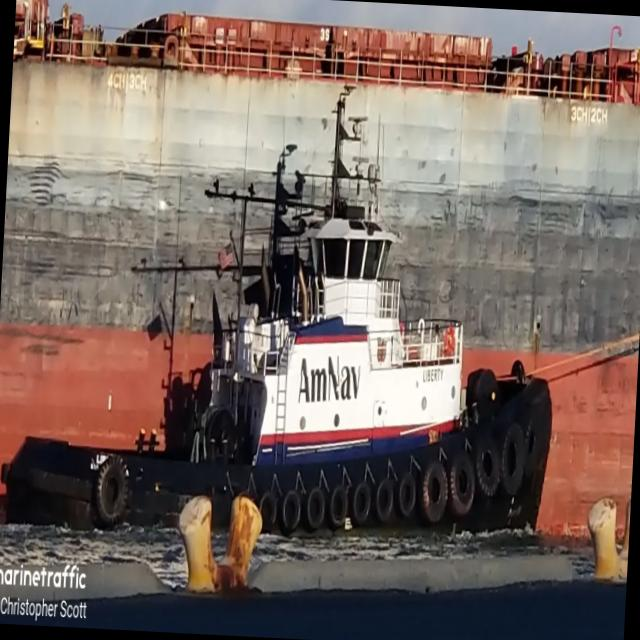Tug: (2, 87, 551, 535)
